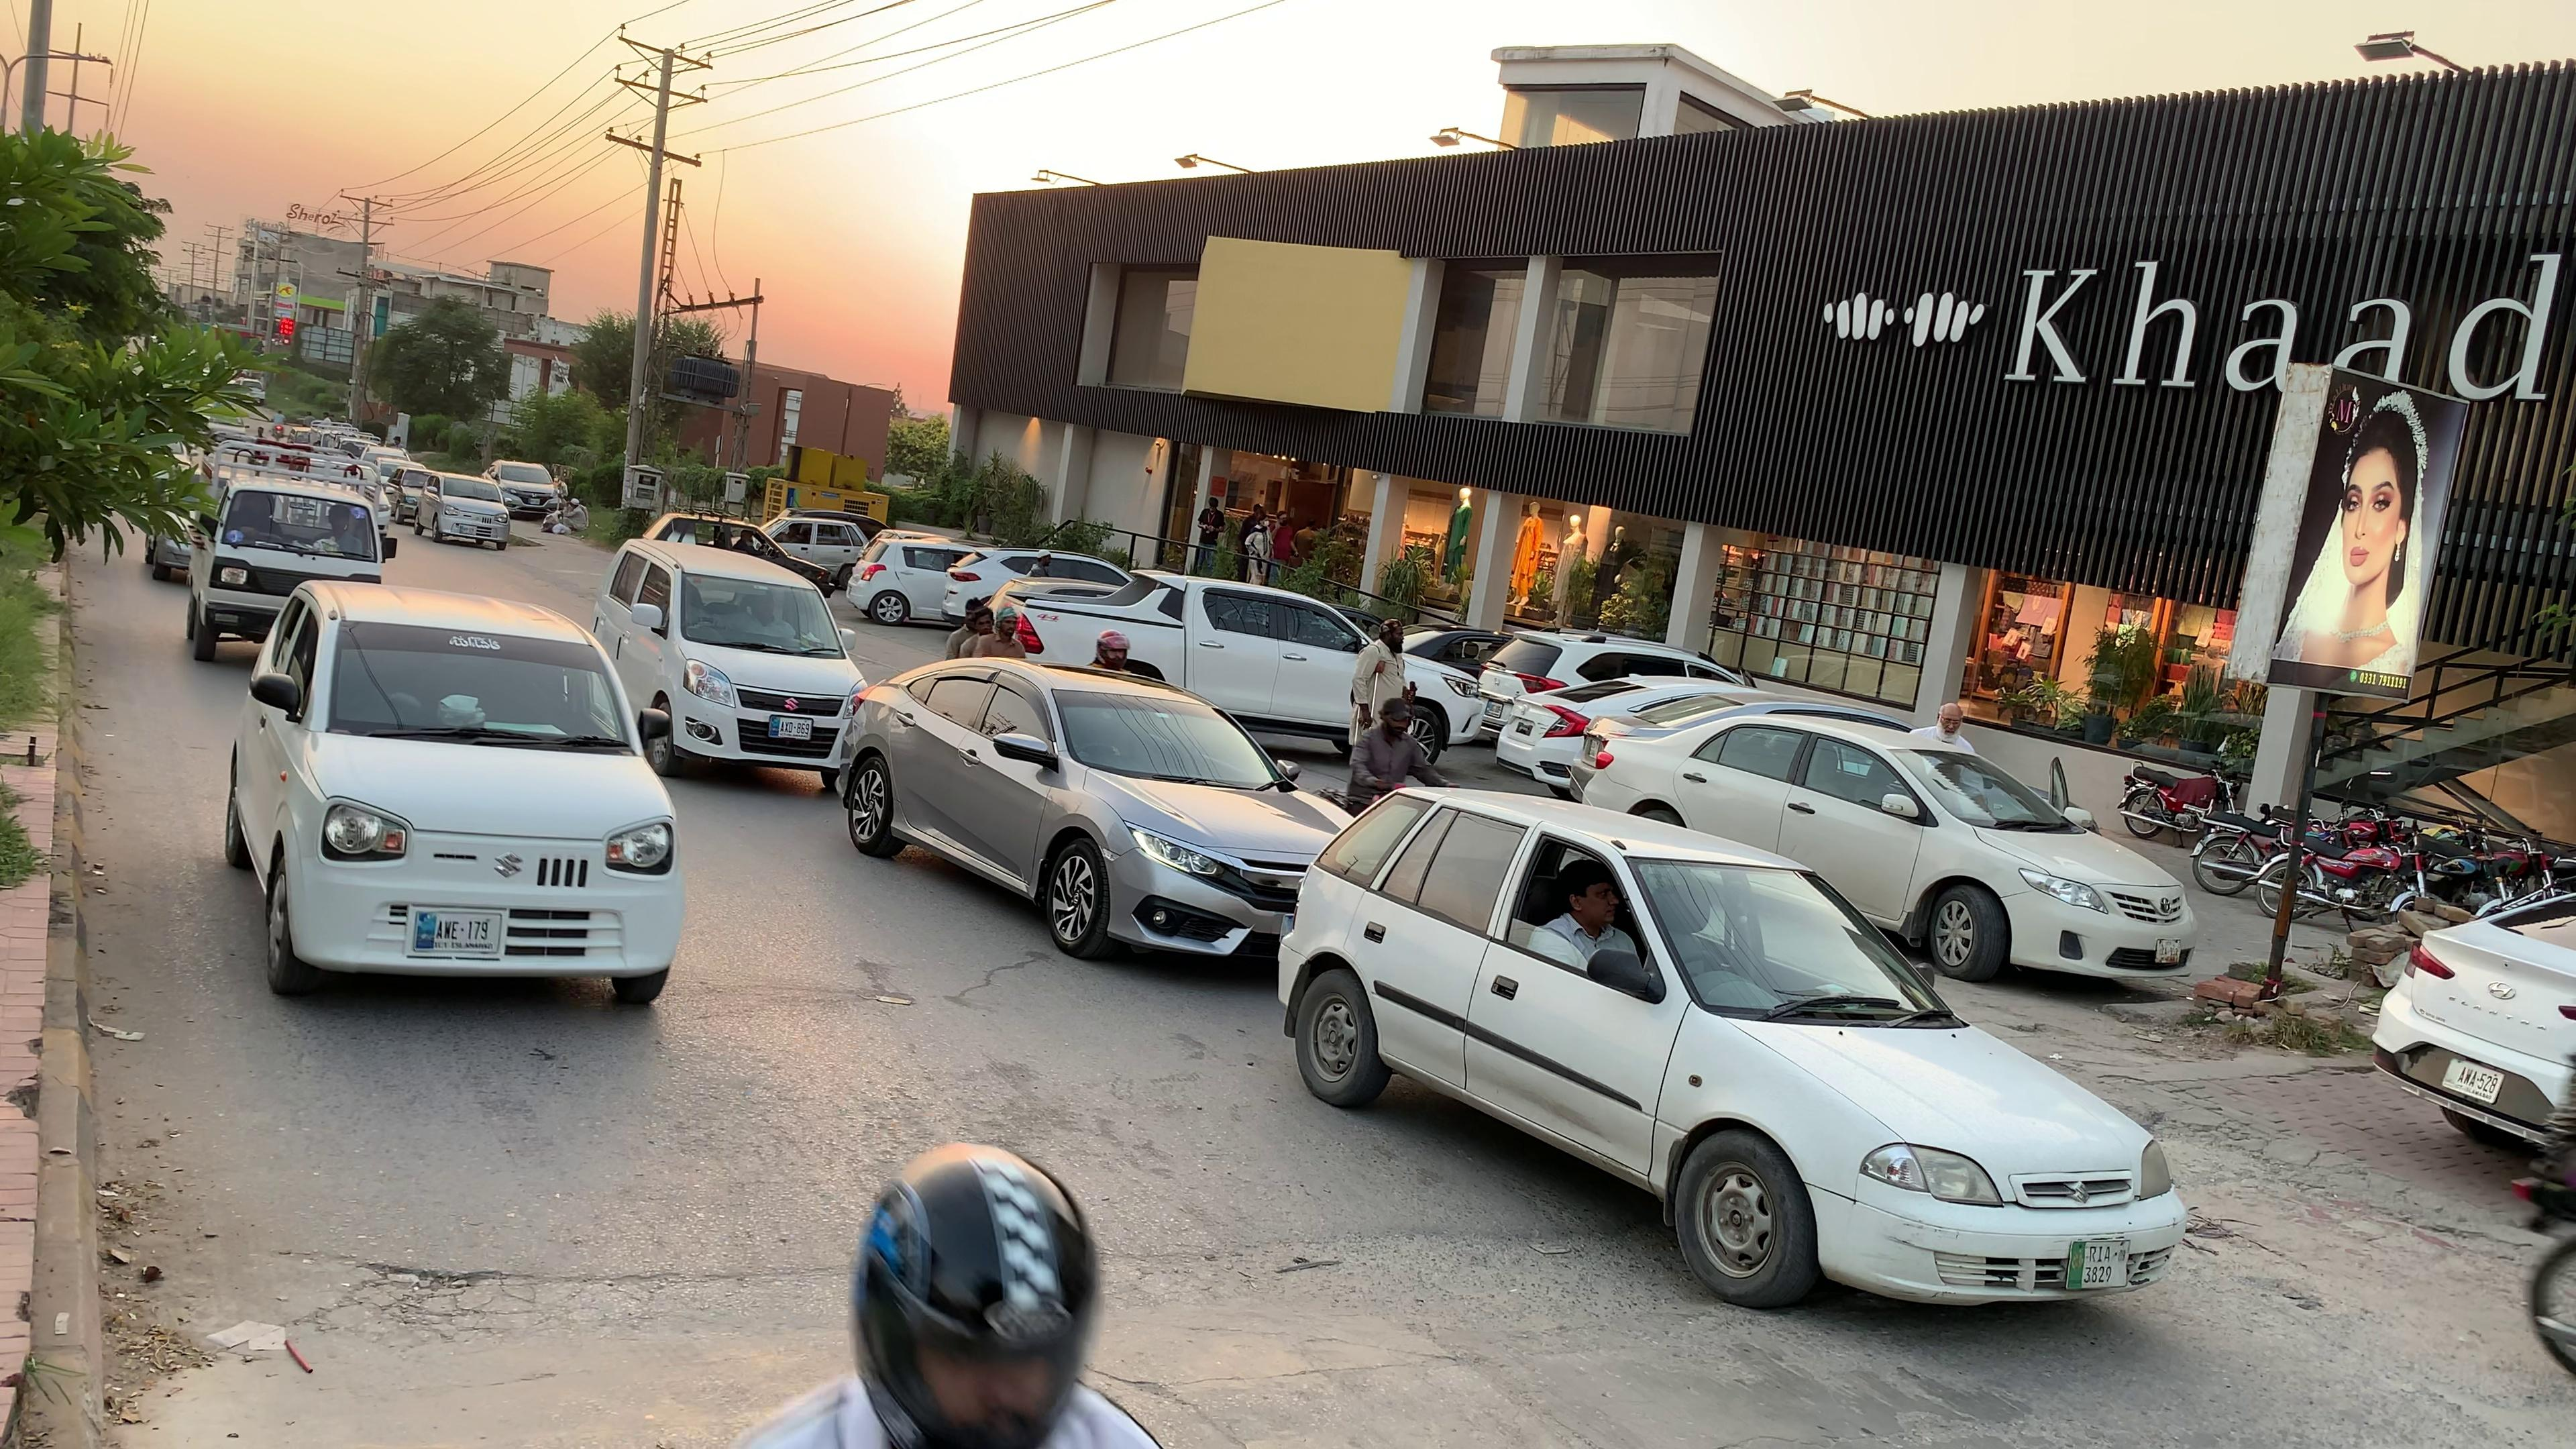windshield: (1608, 842, 1969, 1044), (317, 587, 651, 768), (1044, 674, 1295, 791)
